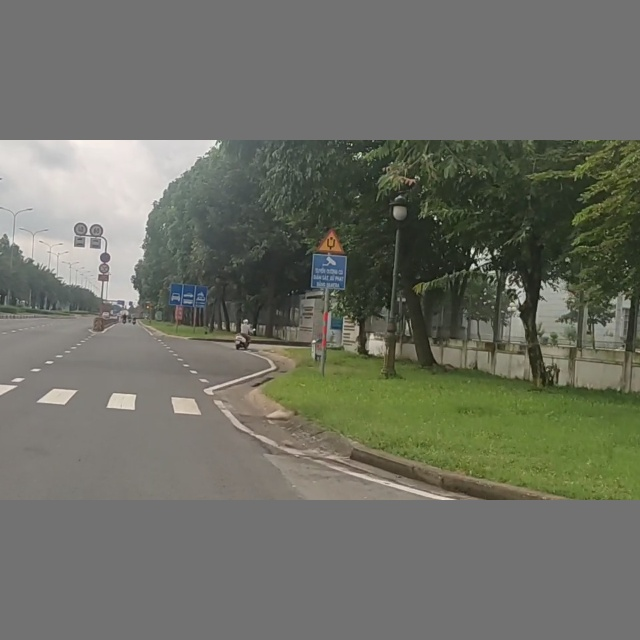W.246a: (315, 227, 347, 254)
